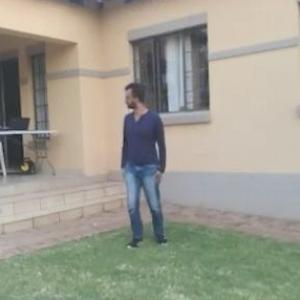follow: (113, 75, 169, 259)
